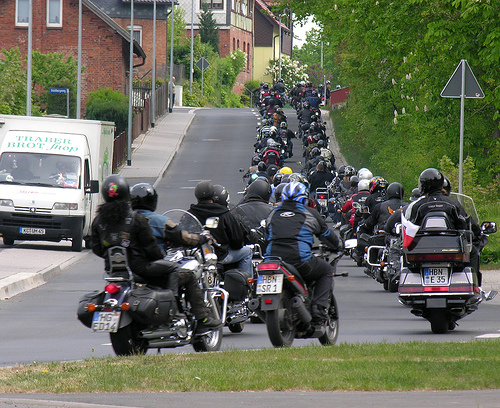helmet: (98, 174, 129, 199), (424, 171, 450, 198), (132, 184, 156, 206), (249, 178, 273, 199), (283, 183, 304, 201), (212, 183, 232, 201), (194, 181, 212, 196), (368, 175, 383, 190), (386, 185, 402, 199)
